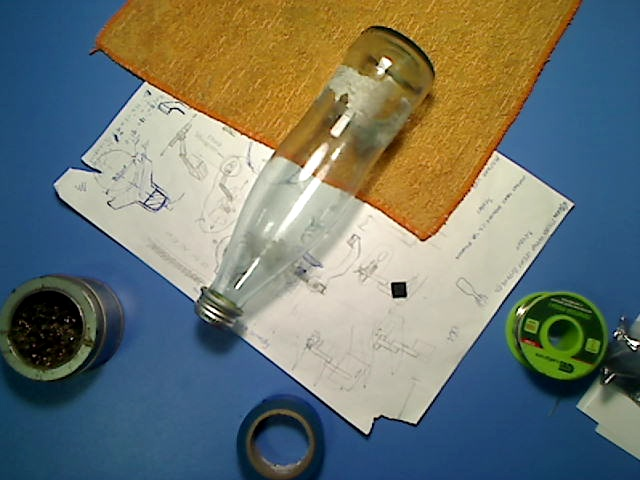bottle: (194, 26, 440, 329)
